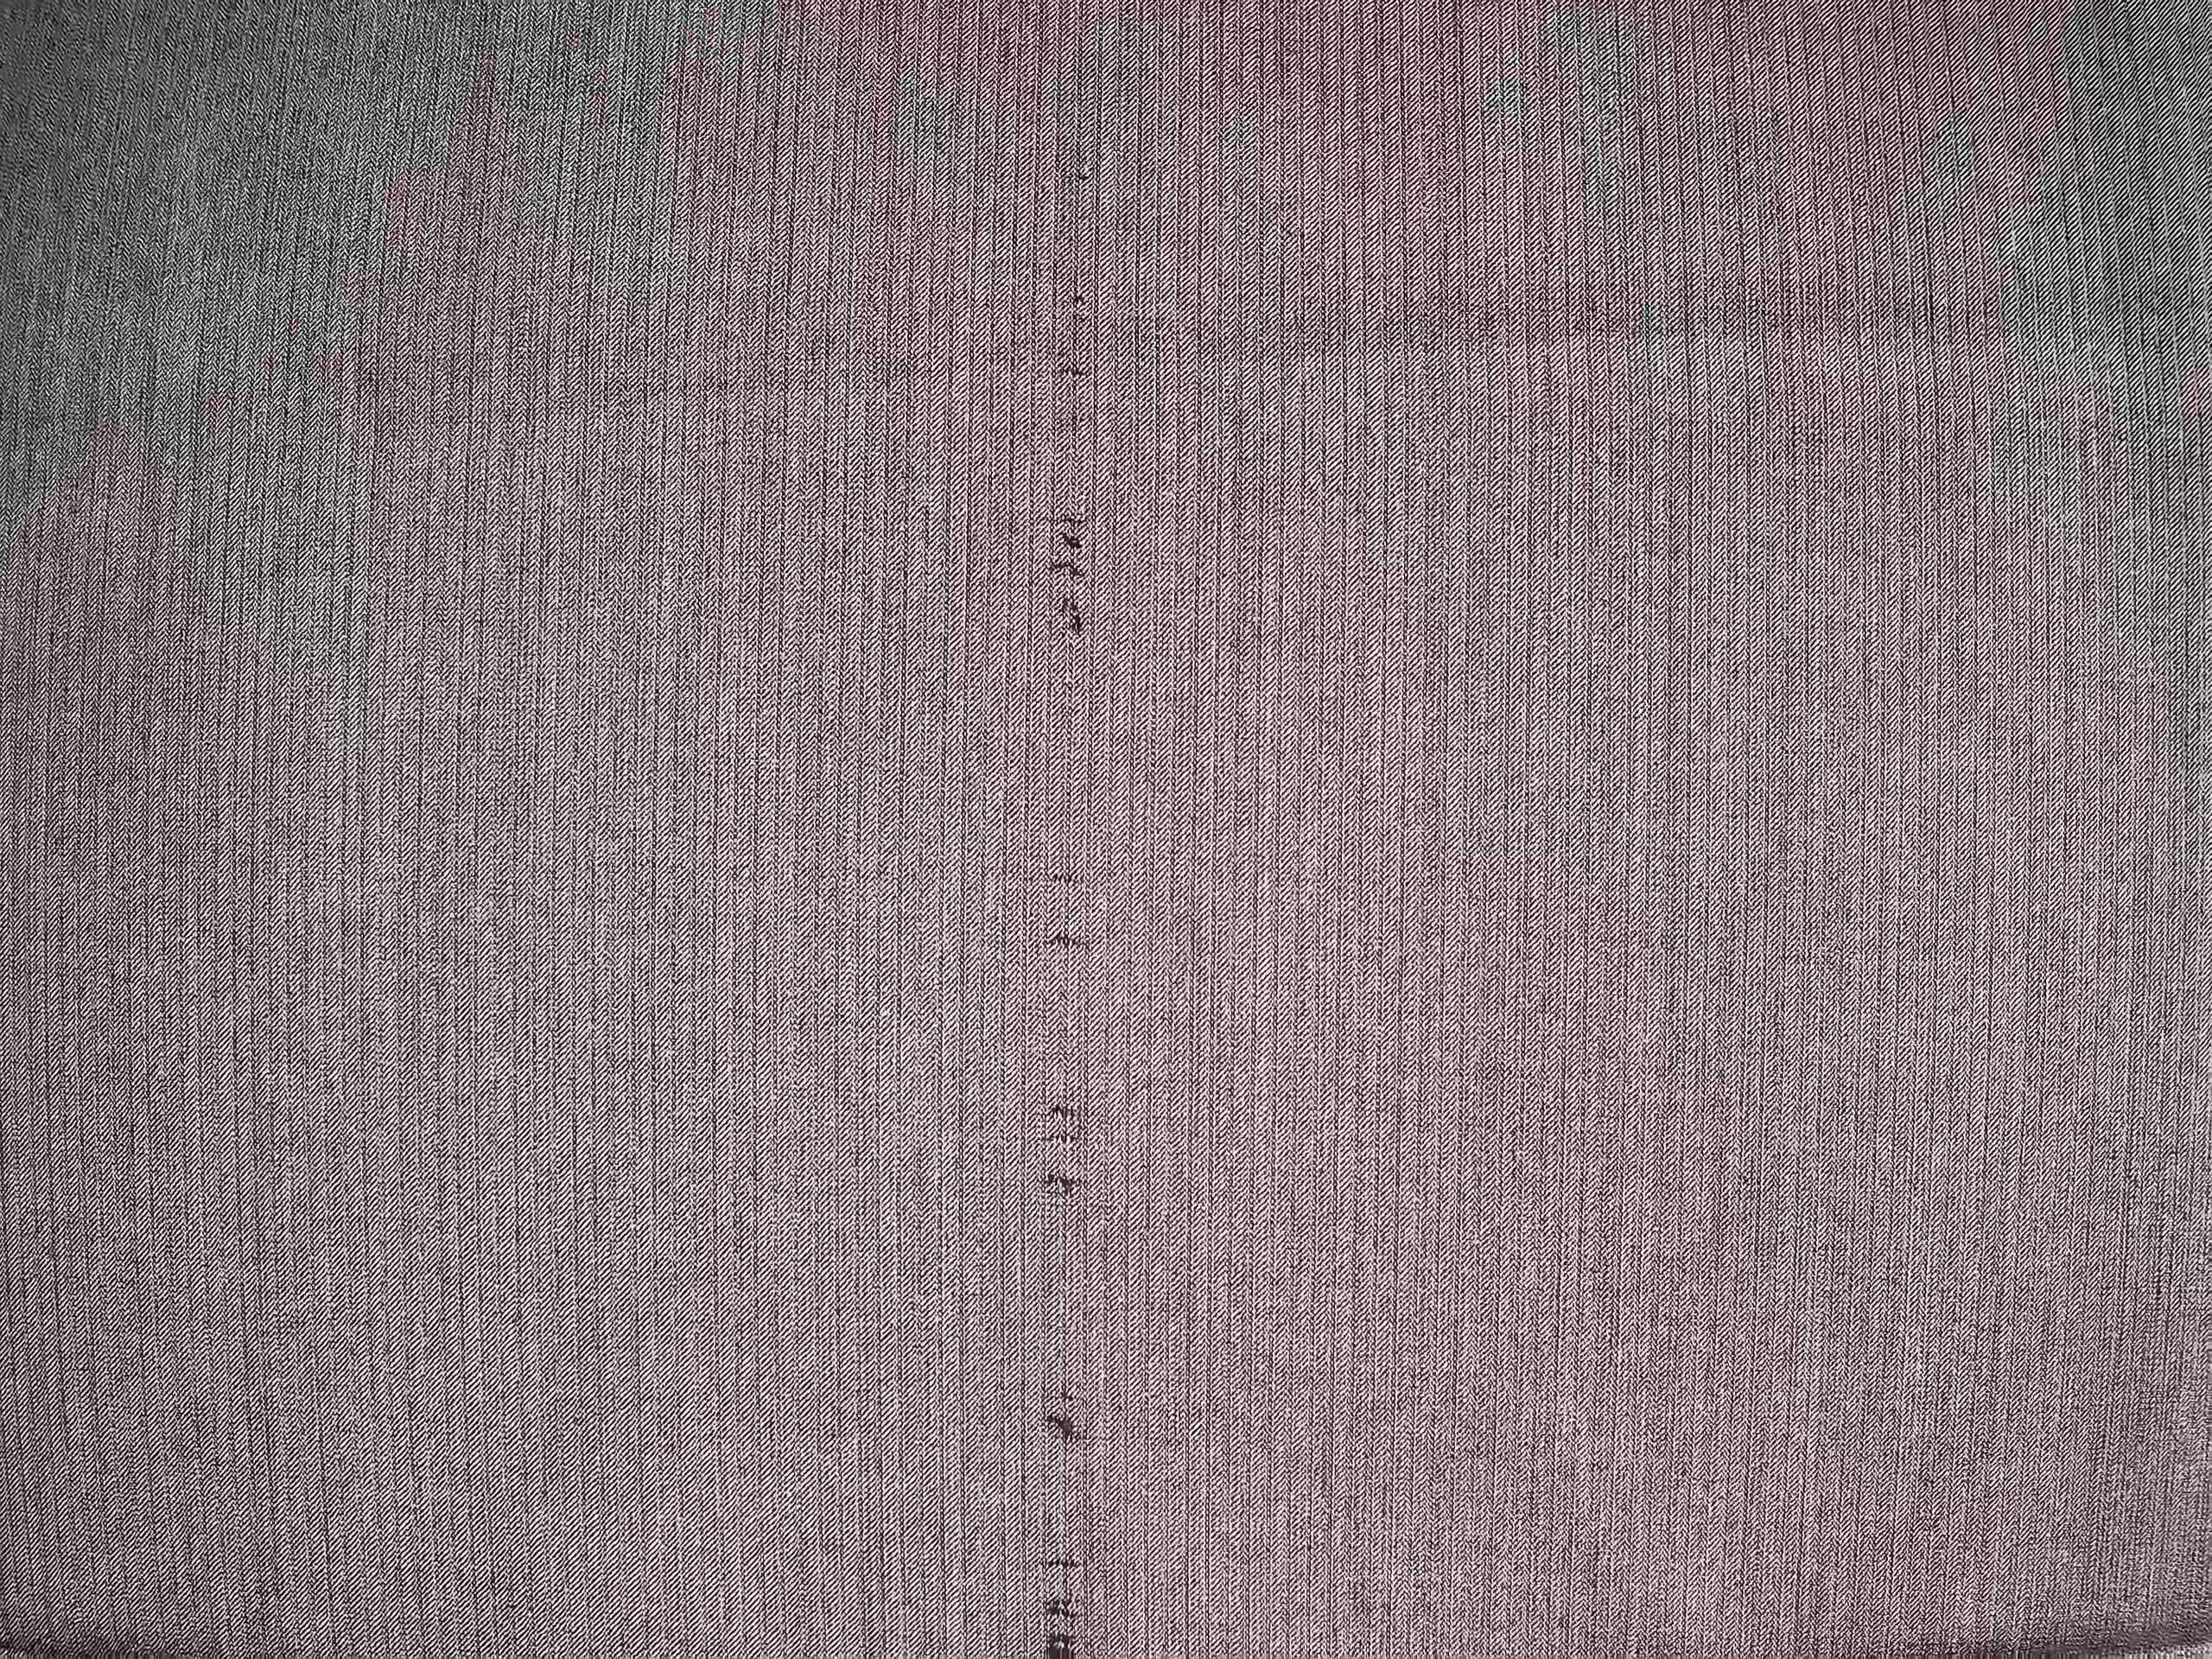jumps: (1019, 155, 1127, 1659)
